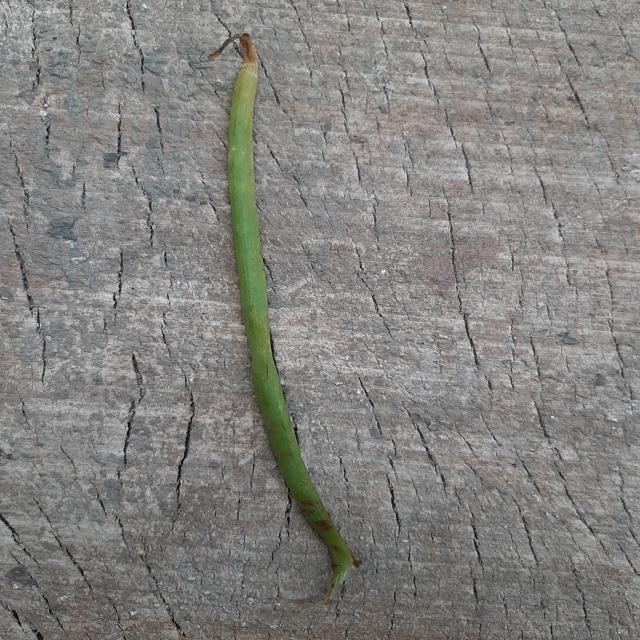onion: (209, 34, 358, 602)
